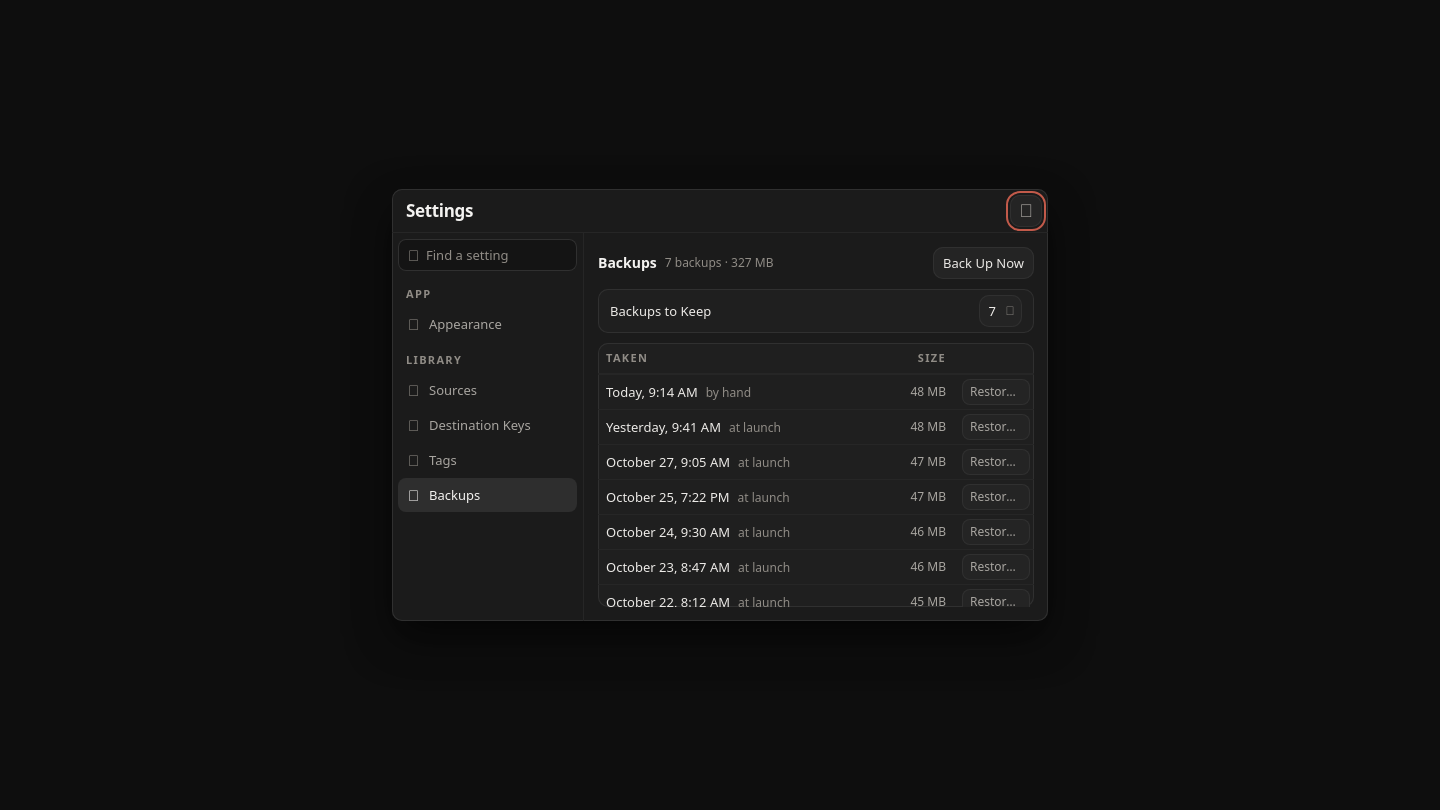
a restore that forgets a source names it, and counts its files in the Trash
Click the button "Restore…" in the row of "October 27, 9:05 AM": (996,462) x1=962 y1=449 x2=1030 y2=475
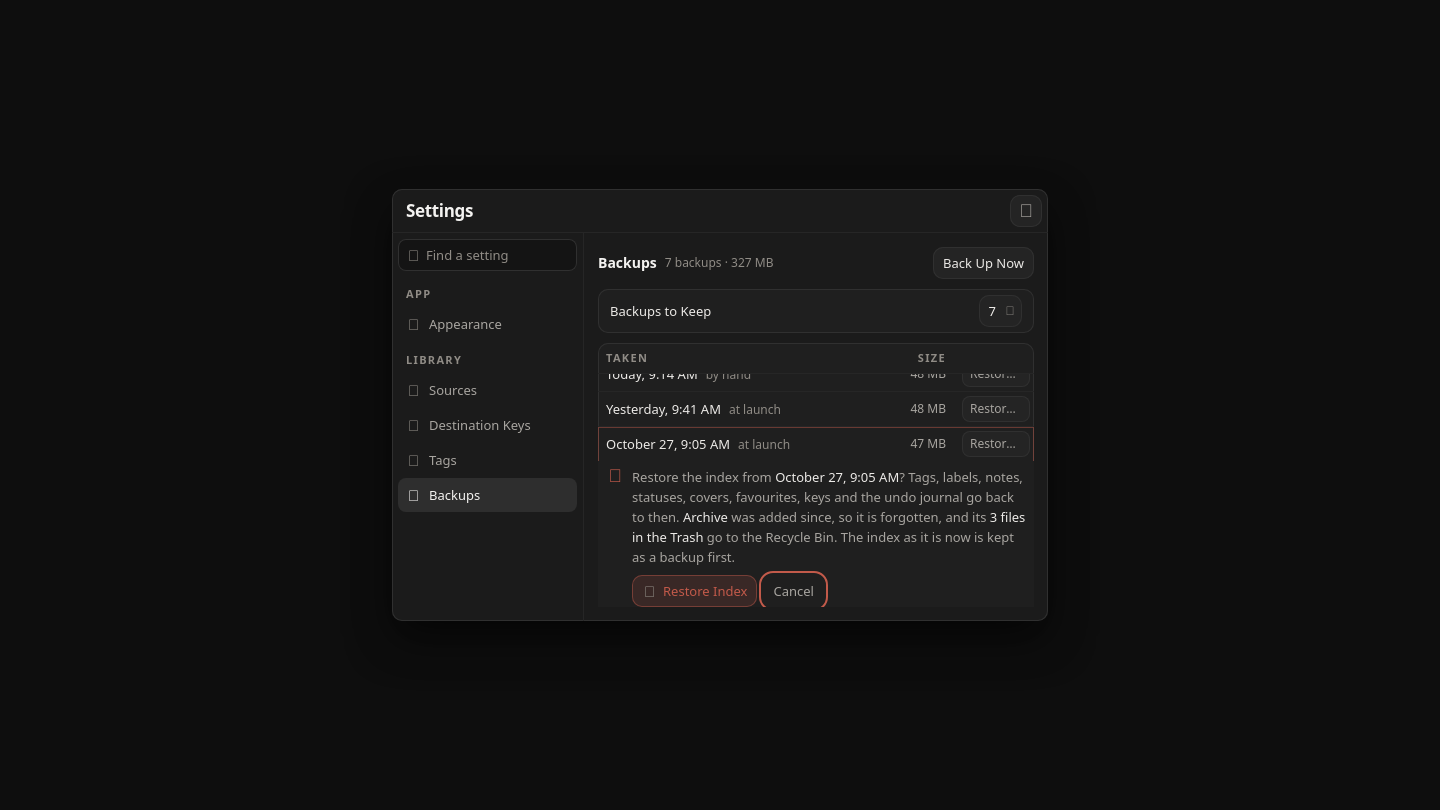
Expected: the button " Restore Index" is shown, x1=632 y1=575 x2=757 y2=607
Press Escape
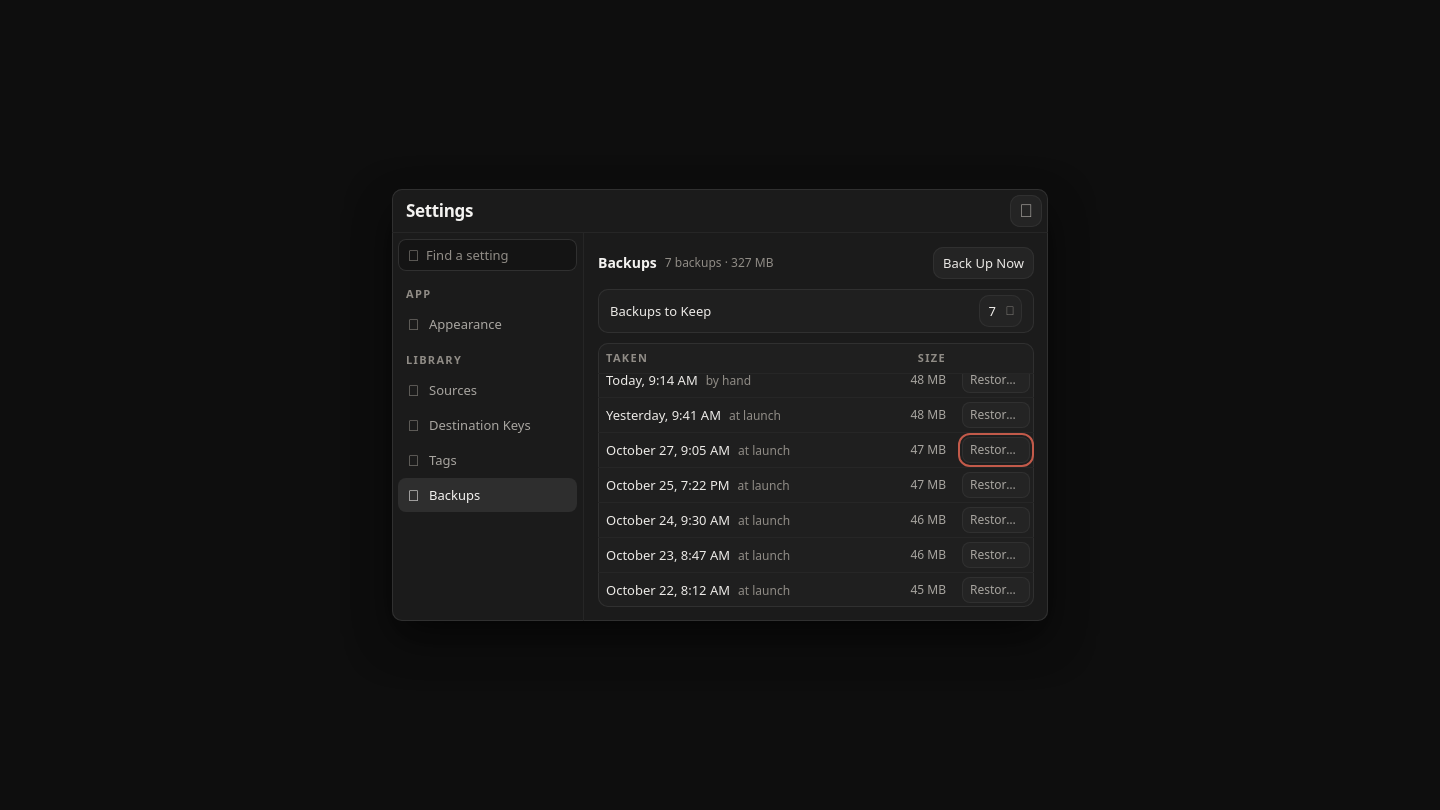
Click the button "Restore…" in the row of "October 27, 9:05 AM": (996,450) x1=962 y1=437 x2=1030 y2=463
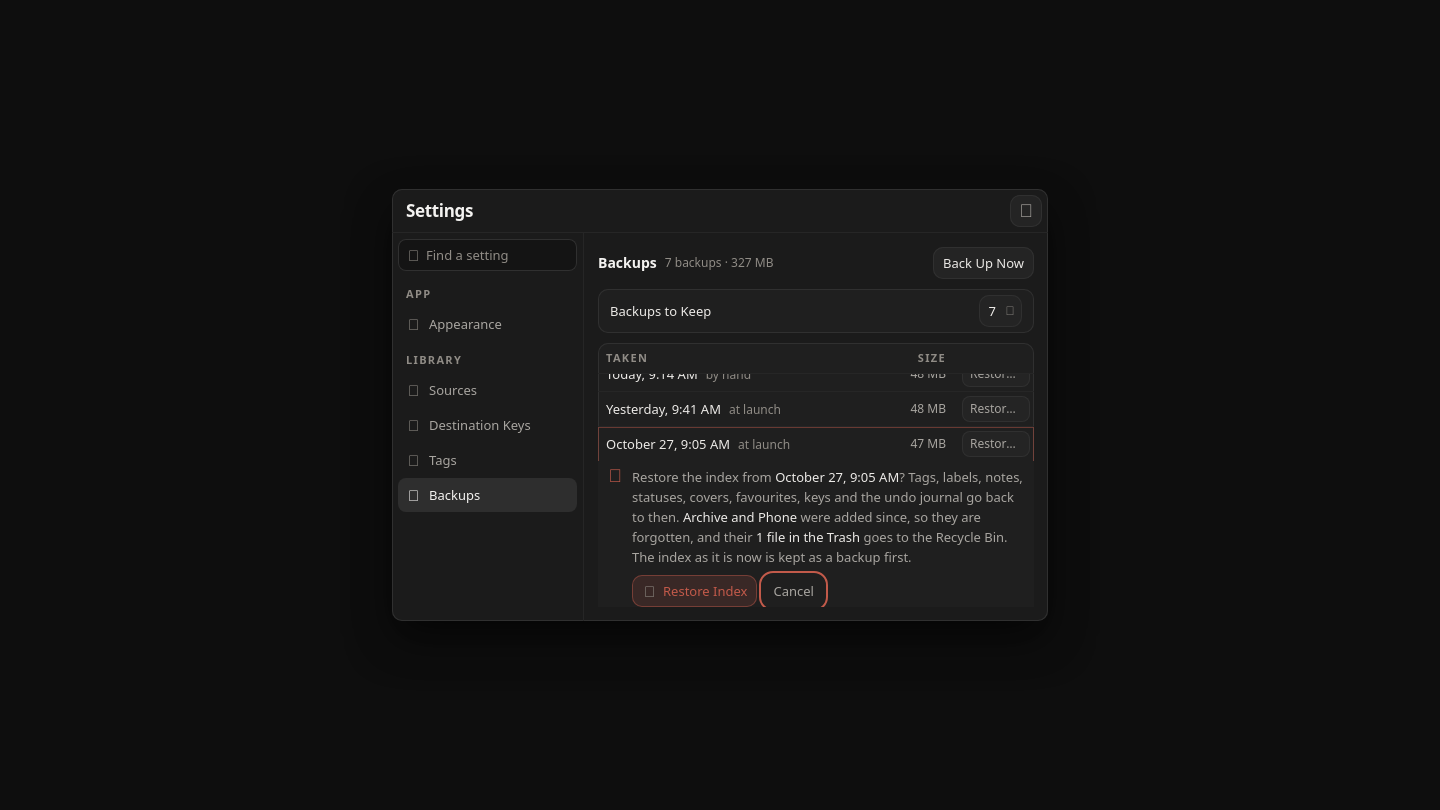
Expected: the button " Restore Index" is shown, x1=632 y1=575 x2=757 y2=607
